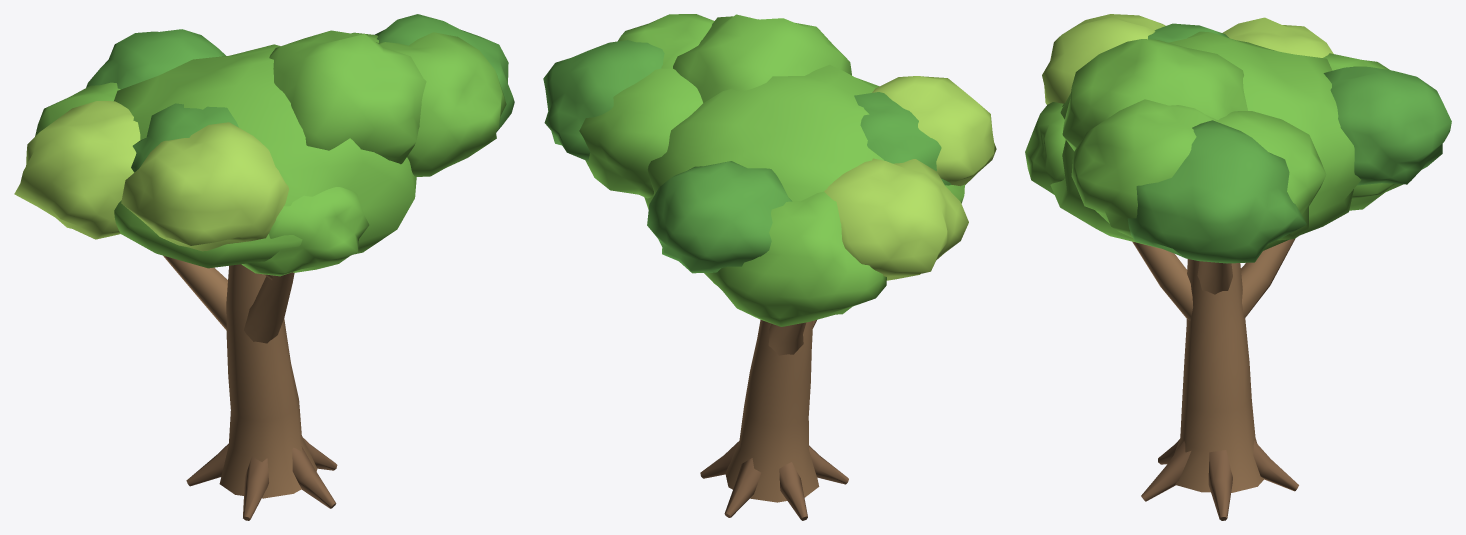
File: Tree_A.fbx
3 renders of one model, left to right at view 1: azimuth 30°, elevation 25°; view 2: azimuth 150°, elevation 25°; view 3: azimuth 270°, elevation 25°, orthographic. The views are drawn at different scales.
Parts seen in each view (by area): view 1: Tree_A; view 2: Tree_A; view 3: Tree_A.
Part boxes in pixels (box(x1,y1,x2,y2)): Tree_A: box(14, 14, 514, 520); Tree_A: box(543, 14, 996, 520); Tree_A: box(1025, 14, 1451, 520).
Size of the model in its own units: 3.87 by 3.8 by 3.19.
